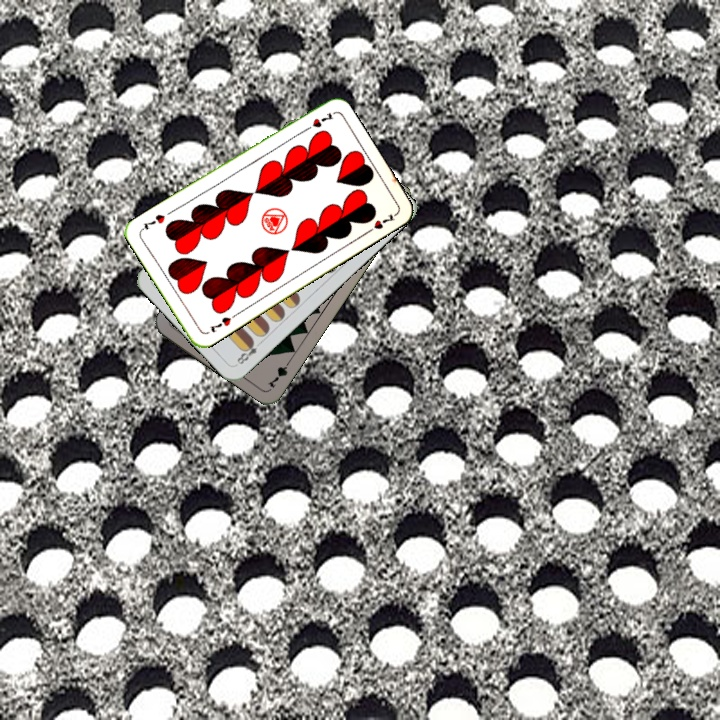E8: (233, 336, 265, 367)
G7: (263, 354, 294, 391)
H7: (299, 109, 335, 134), (205, 310, 240, 335)
